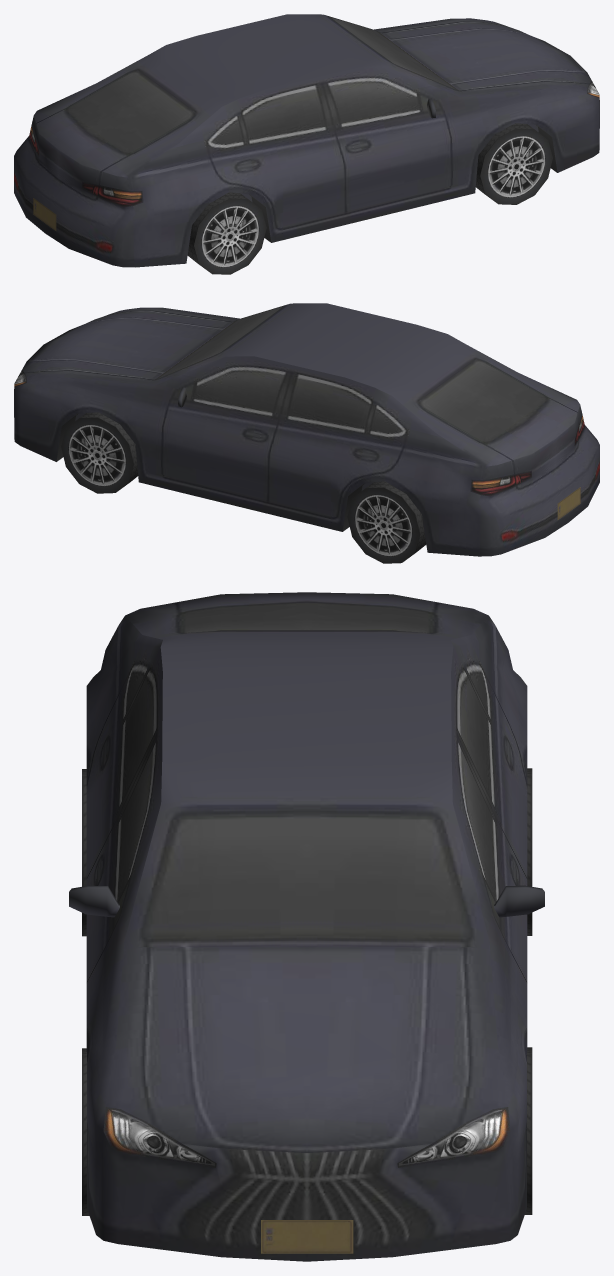
File: sf_luxury_04.glb
3 views of the same model, one above another, from view 1: azimuth 30°, elevation 25°; view 2: azimuth 150°, elevation 25°; view 3: azimuth 270°, elevation 25° (orthographic). The views are drawn at different scales.
Parts seen in each view (by area): view 1: Traffic_Luxury_04_Body, Traffic_Luxury_04_Wheel_Back_R_Traffic_Vehicle_Wheels_01_7_0, Traffic_Luxury_04_Wheel_Front_R_Traffic_Vehicle_Wheels_01_7_, Traffic_Luxury_04_Light_Break; view 2: Traffic_Luxury_04_Body, Traffic_Luxury_04_Wheel_Back_L_Traffic_Vehicle_Wheels_01_7_0, Traffic_Luxury_04_Wheel_Front_L_Traffic_Vehicle_Wheels_01_7_, Traffic_Luxury_04_Light_Break; view 3: Traffic_Luxury_04_Body, Traffic_Luxury_04_Light, Traffic_Luxury_04_Wheel_Front_L_Traffic_Vehicle_Wheels_01_7_.
Boxes of the visible parts, <box> form: Traffic_Luxury_04_Body: <box>14,14,599,267</box>; Traffic_Luxury_04_Wheel_Back_R_Traffic_Vehicle_Wheels_01_7_0: <box>187,192,266,274</box>; Traffic_Luxury_04_Wheel_Front_R_Traffic_Vehicle_Wheels_01_7_: <box>475,123,552,204</box>; Traffic_Luxury_04_Light_Break: <box>29,131,143,207</box>; Traffic_Luxury_04_Body: <box>14,303,599,556</box>; Traffic_Luxury_04_Wheel_Back_L_Traffic_Vehicle_Wheels_01_7_0: <box>347,481,426,563</box>; Traffic_Luxury_04_Wheel_Front_L_Traffic_Vehicle_Wheels_01_7_: <box>61,412,138,493</box>; Traffic_Luxury_04_Light_Break: <box>470,421,584,496</box>; Traffic_Luxury_04_Body: <box>69,592,544,1261</box>; Traffic_Luxury_04_Light: <box>111,1107,502,1167</box>; Traffic_Luxury_04_Wheel_Front_L_Traffic_Vehicle_Wheels_01_7_: <box>525,1047,532,1214</box>.
Size of the model in its own units: 5.18 by 1.49 by 2.03.
Materials: 3 (3 with a texture image).
